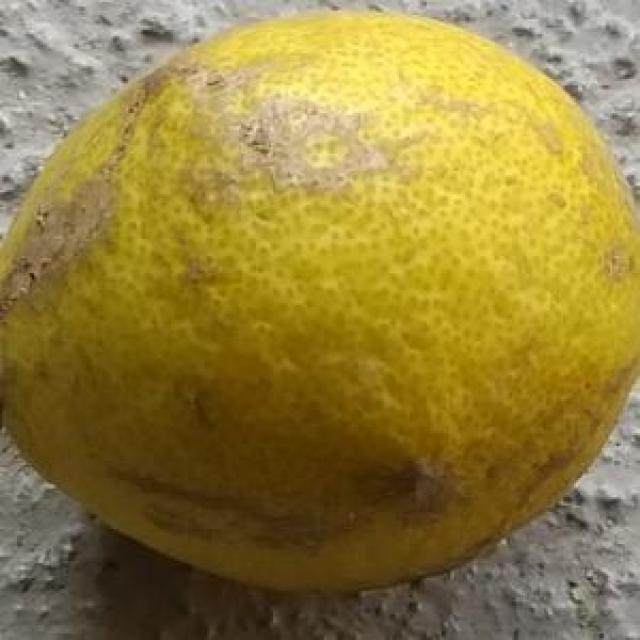lemon: (10, 3, 640, 640)
